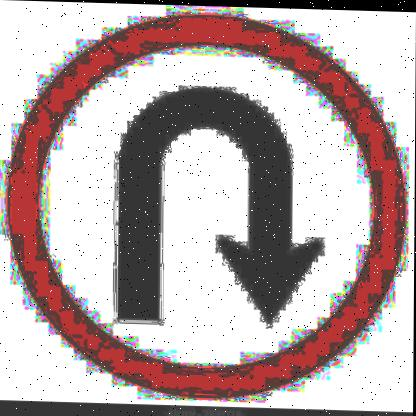U-turn: (9, 10, 400, 400)
